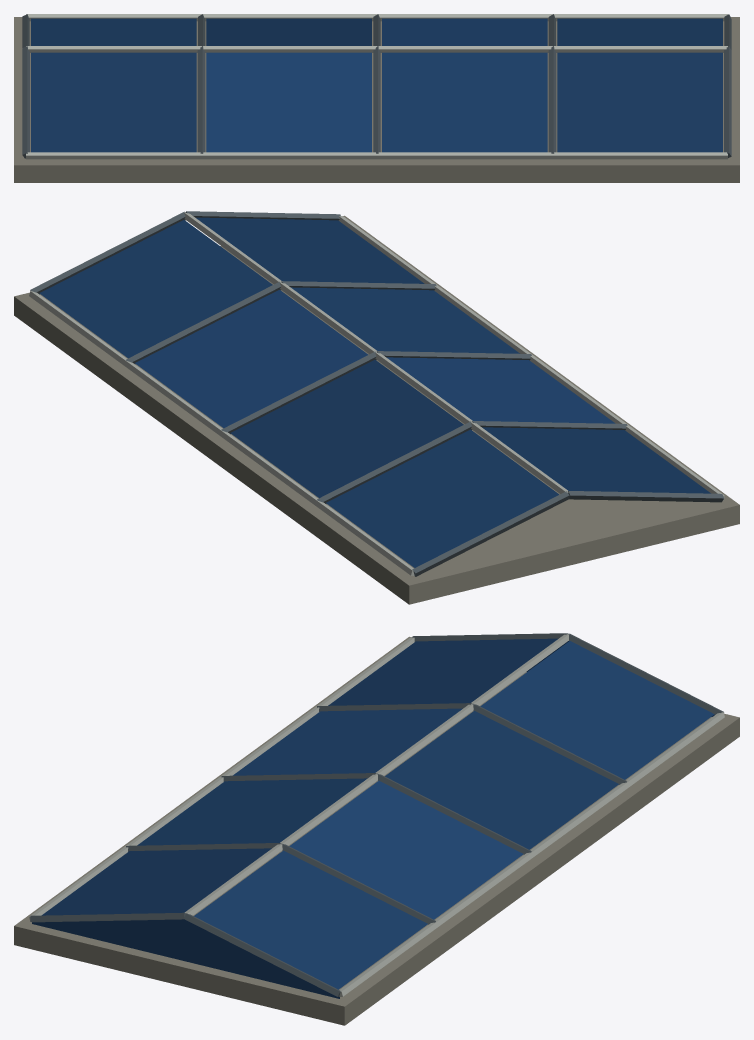
Rendered from FluffSystem-01-Building-07-GlassRoof-1-04.glb.
3 renders of one model, top to bottom at view 1: azimuth 30°, elevation 25°; view 2: azimuth 150°, elevation 25°; view 3: azimuth 270°, elevation 25°, orthographic. The views are drawn at different scales.
Visible parts, largest first — view 1: FluffSystem-01-Building-07-GlassRoof-1-04; view 2: FluffSystem-01-Building-07-GlassRoof-1-04; view 3: FluffSystem-01-Building-07-GlassRoof-1-04.
Part boxes in pixels (x1=…): FluffSystem-01-Building-07-GlassRoof-1-04: x1=14, y1=14, x2=739, y2=182; FluffSystem-01-Building-07-GlassRoof-1-04: x1=14, y1=211, x2=739, y2=604; FluffSystem-01-Building-07-GlassRoof-1-04: x1=14, y1=633, x2=739, y2=1025.
Bounding box in the file's own units: 66.46 × 5.7 × 55.11.
